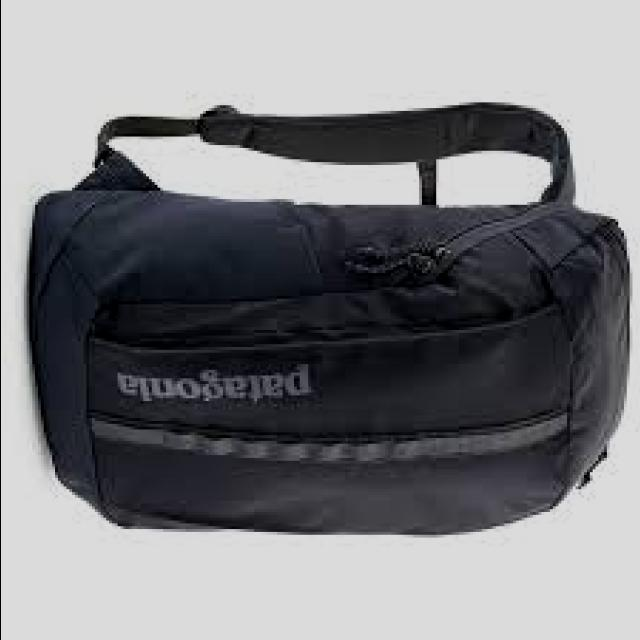backpack: (30, 101, 636, 539)
